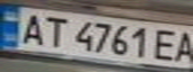1: (127, 25, 154, 60)
4: (69, 18, 97, 52)
6: (109, 23, 133, 57)
7: (90, 20, 112, 54)
A: (15, 10, 48, 46), (172, 29, 193, 64)
E: (151, 26, 184, 62)
T: (36, 14, 72, 48)
